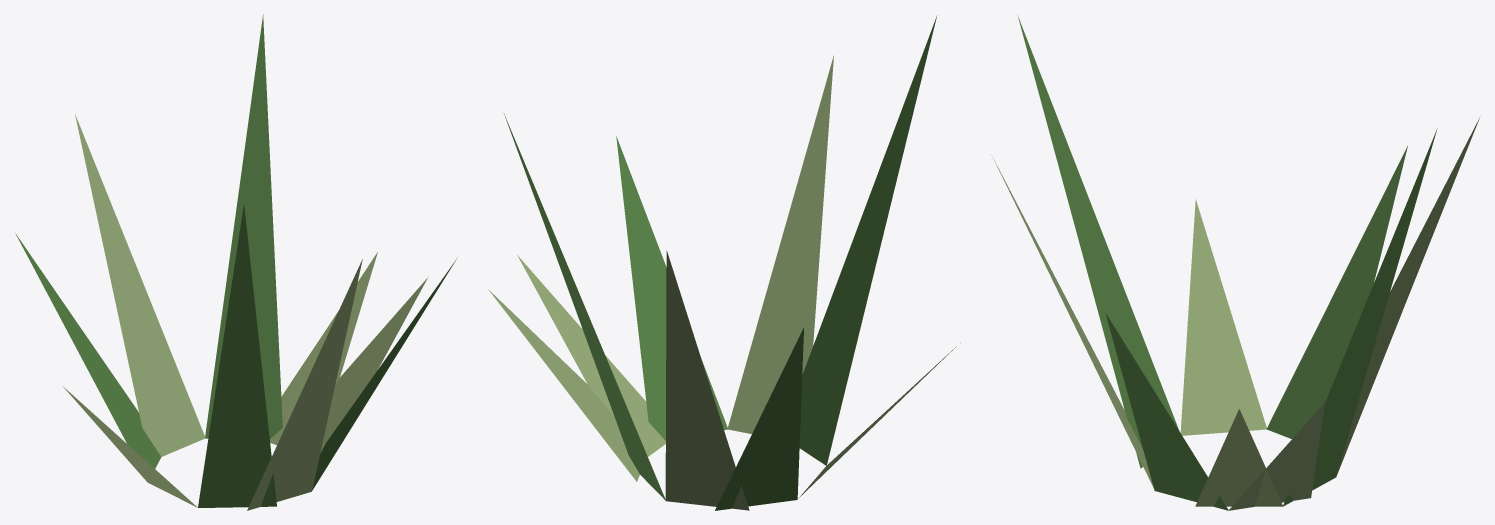
The model's file is grass_tuft.glb.
3 renders of one model, left to right at view 1: azimuth 30°, elevation 25°; view 2: azimuth 150°, elevation 25°; view 3: azimuth 270°, elevation 25°, orthographic. The views are drawn at different scales.
Parts seen in each view (by area): view 1: grass_tuft_palm, grass_tuft_grass; view 2: grass_tuft_grass, grass_tuft_palm; view 3: grass_tuft_palm, grass_tuft_grass.
Boxes of the visible parts, x1,y1,x2,y2 form: grass_tuft_palm: [15, 14, 456, 507]; grass_tuft_grass: [63, 114, 427, 510]; grass_tuft_grass: [488, 55, 960, 510]; grass_tuft_palm: [504, 15, 937, 510]; grass_tuft_palm: [1017, 15, 1437, 510]; grass_tuft_grass: [991, 116, 1480, 510].
Size of the model in its own units: 0.6748 by 0.61 by 0.667.
